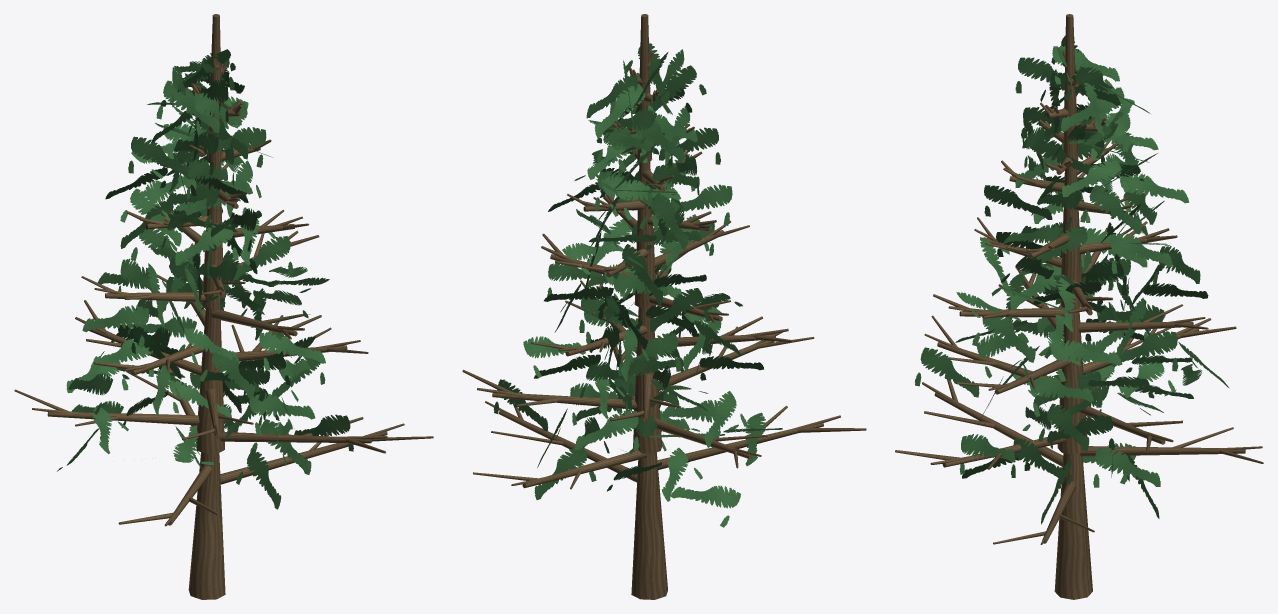
3 views of the same model, side by side, from view 1: azimuth 30°, elevation 25°; view 2: azimuth 150°, elevation 25°; view 3: azimuth 270°, elevation 25° (orthographic).
Parts seen in each view (by area): view 1: pine-needle, pine-bark; view 2: pine-needle, pine-bark; view 3: pine-needle, pine-bark.
Boxes of the visible parts, x1,y1,x2,y2 form: pine-needle: (57,49,353,509); pine-bark: (14,14,433,599); pine-needle: (494,42,782,527); pine-bark: (462,14,866,599); pine-needle: (914,35,1229,524); pine-bark: (895,14,1263,599).
Size of the model in its own units: 6.17 by 10.01 by 5.77.
Materials: 2 (2 with a texture image).
